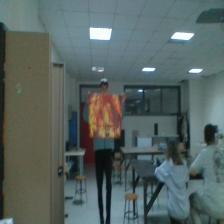fire-poster: (89, 94, 121, 137)
